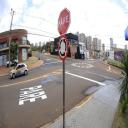Pare: (56, 7, 70, 35)
Rotatoria: (57, 35, 69, 61)
